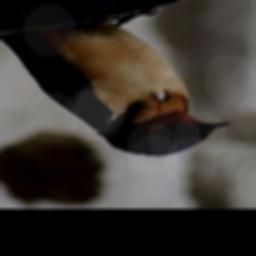Swallow: (0, 3, 233, 158)
